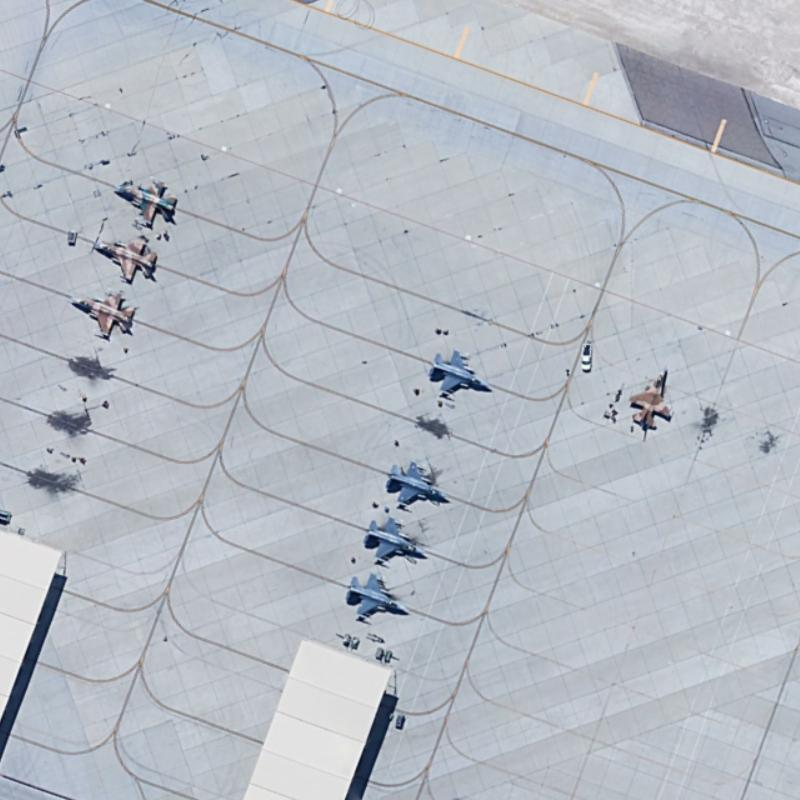A5: (336, 565, 414, 628), (422, 344, 498, 404), (382, 451, 453, 515), (63, 288, 141, 346), (109, 173, 182, 232), (354, 514, 431, 569), (87, 232, 163, 287), (620, 364, 679, 433)
